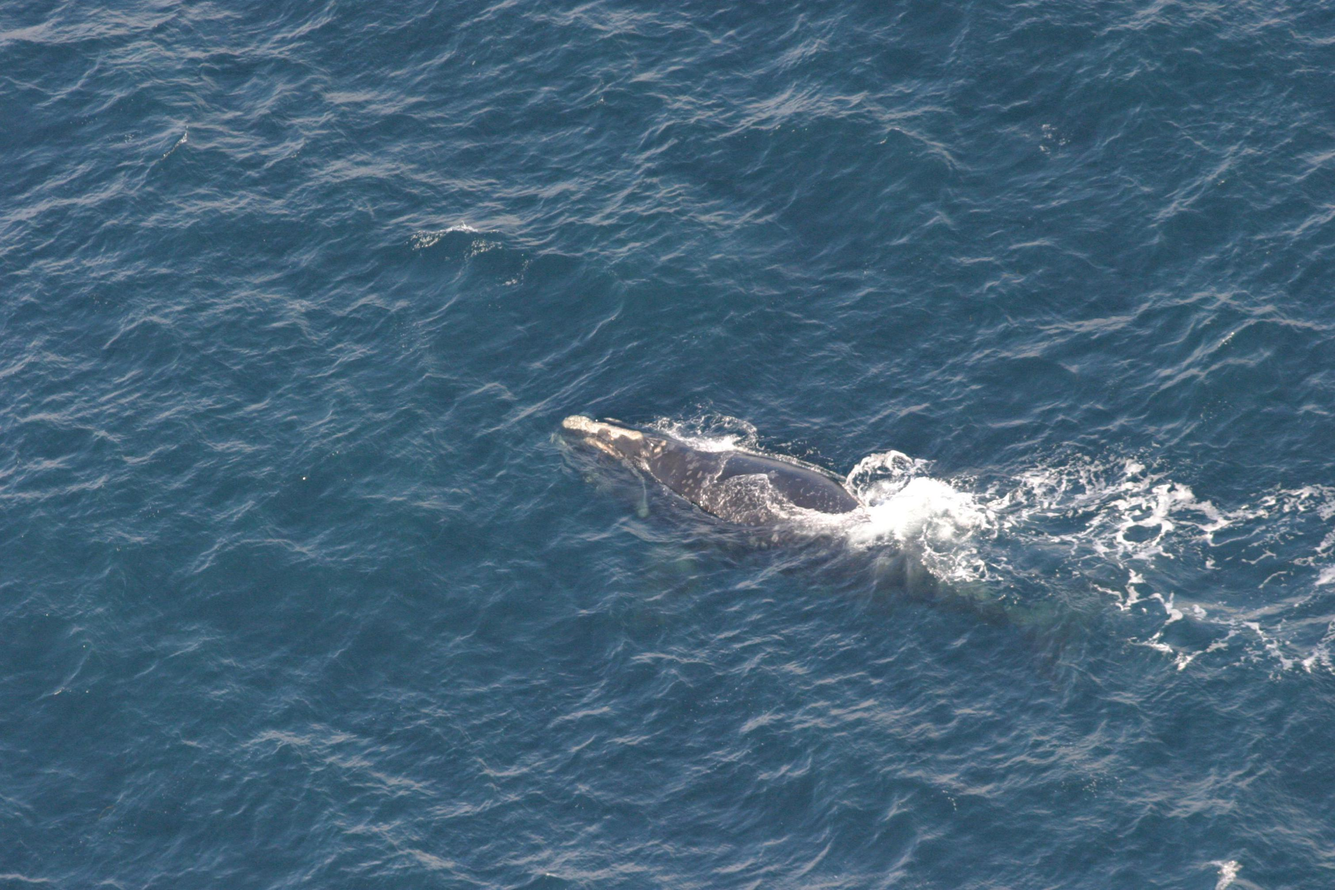whale: (545, 409, 1034, 638)
